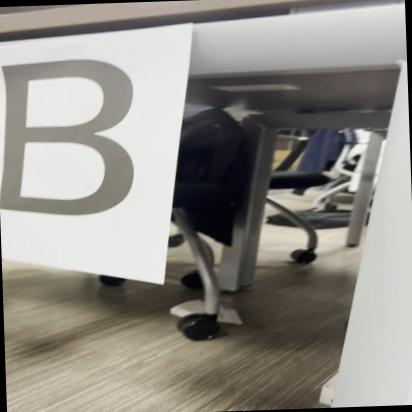seat: (0, 48, 140, 219)
